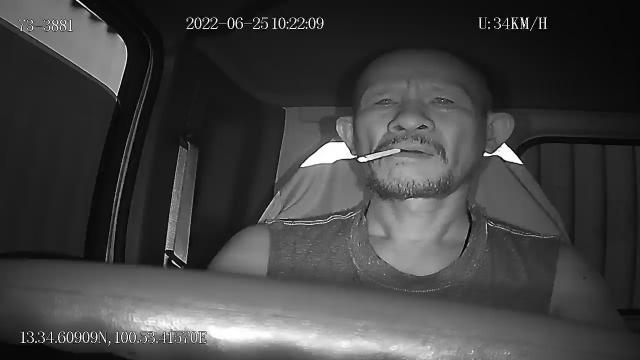SafeDriving: (423, 86, 463, 114), (366, 87, 406, 115)
Smoking: (358, 146, 400, 162)
